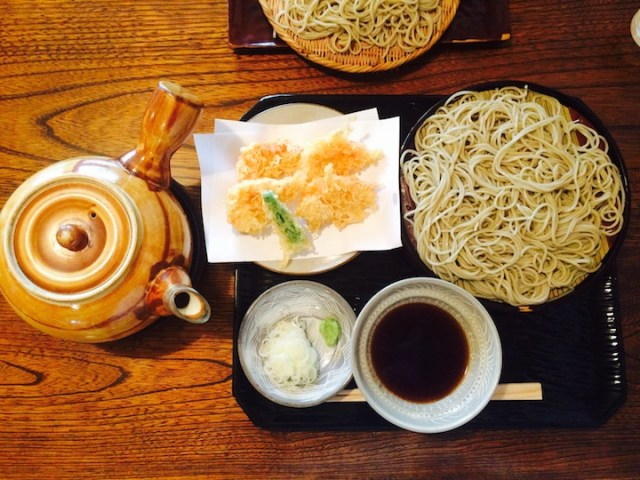Soba: (399, 89, 620, 308)
